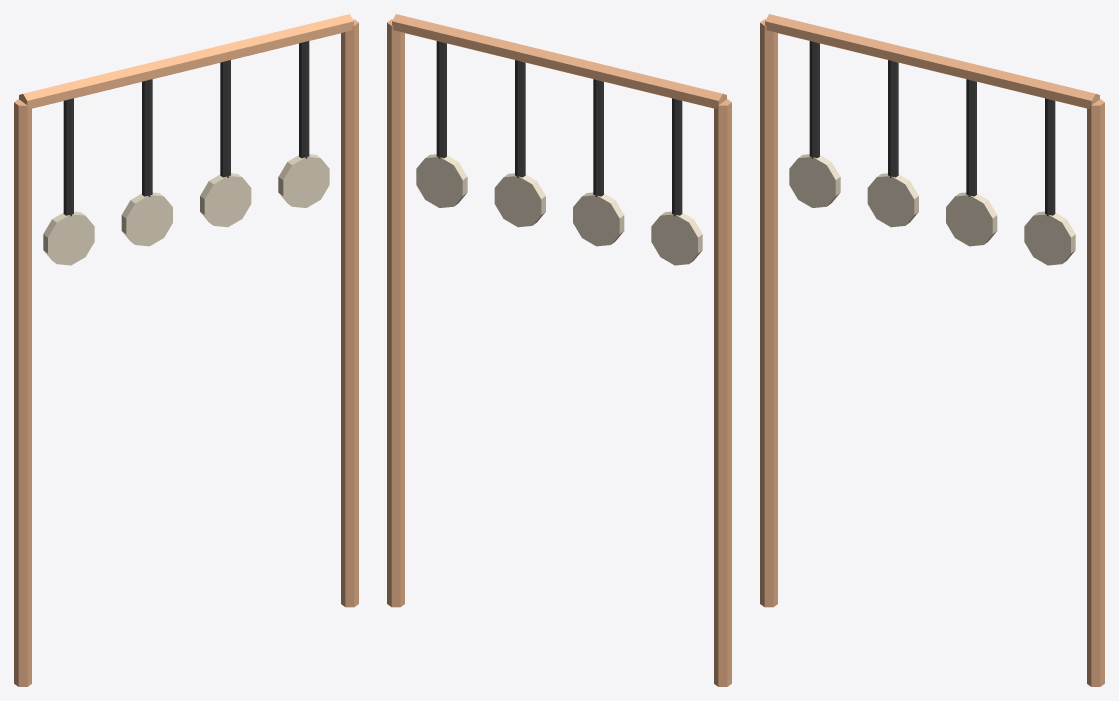
3 renders of one model, left to right at view 1: azimuth 30°, elevation 25°; view 2: azimuth 150°, elevation 25°; view 3: azimuth 330°, elevation 25°, orthographic.
Parts seen in each view (by area): view 1: Post, Post.001, Crossbar, Utensil head, Utensil head.002, Utensil head.001, Utensil head.003, Utensil grip.001, Utensil grip.003, Utensil grip, Utensil grip.002; view 2: Post, Post.001, Crossbar, Utensil head, Utensil head.002, Utensil head.001, Utensil head.003, Utensil grip.001, Utensil grip.003, Utensil grip, Utensil grip.002; view 3: Post.001, Post, Crossbar, Utensil head.003, Utensil head.001, Utensil head, Utensil head.002, Utensil grip, Utensil grip.002, Utensil grip.003, Utensil grip.001.
Part boxes in pixels (<box>): Post: <box>14,99,31,686</box>; Post.001: <box>341,19,358,607</box>; Crossbar: <box>19,14,353,108</box>; Utensil head: <box>43,211,94,265</box>; Utensil head.002: <box>200,173,251,227</box>; Utensil head.001: <box>121,192,172,246</box>; Utensil head.003: <box>278,154,329,207</box>; Utensil grip.001: <box>142,79,152,196</box>; Utensil grip.003: <box>299,41,309,158</box>; Utensil grip: <box>63,98,73,216</box>; Utensil grip.002: <box>220,60,230,177</box>; Post: <box>714,99,731,686</box>; Post.001: <box>387,19,404,607</box>; Crossbar: <box>392,14,726,108</box>; Utensil head: <box>651,211,702,265</box>; Utensil head.002: <box>494,173,545,227</box>; Utensil head.001: <box>573,192,624,246</box>; Utensil head.003: <box>416,154,467,207</box>; Utensil grip.001: <box>593,79,603,196</box>; Utensil grip.003: <box>436,41,446,158</box>; Utensil grip: <box>672,98,682,216</box>; Utensil grip.002: <box>515,60,525,177</box>; Post.001: <box>1087,99,1104,686</box>; Post: <box>760,19,777,607</box>; Crossbar: <box>765,14,1099,108</box>; Utensil head.003: <box>1024,211,1075,265</box>; Utensil head.001: <box>867,173,918,227</box>; Utensil head: <box>789,154,840,207</box>; Utensil head.002: <box>946,192,997,246</box>; Utensil grip: <box>809,41,819,158</box>; Utensil grip.002: <box>966,79,976,196</box>; Utensil grip.003: <box>1045,98,1055,216</box>; Utensil grip.001: <box>888,60,898,177</box>.
Size of the model in its own units: 1.04 by 1.73 by 0.048.
1 material, 1 textured.
